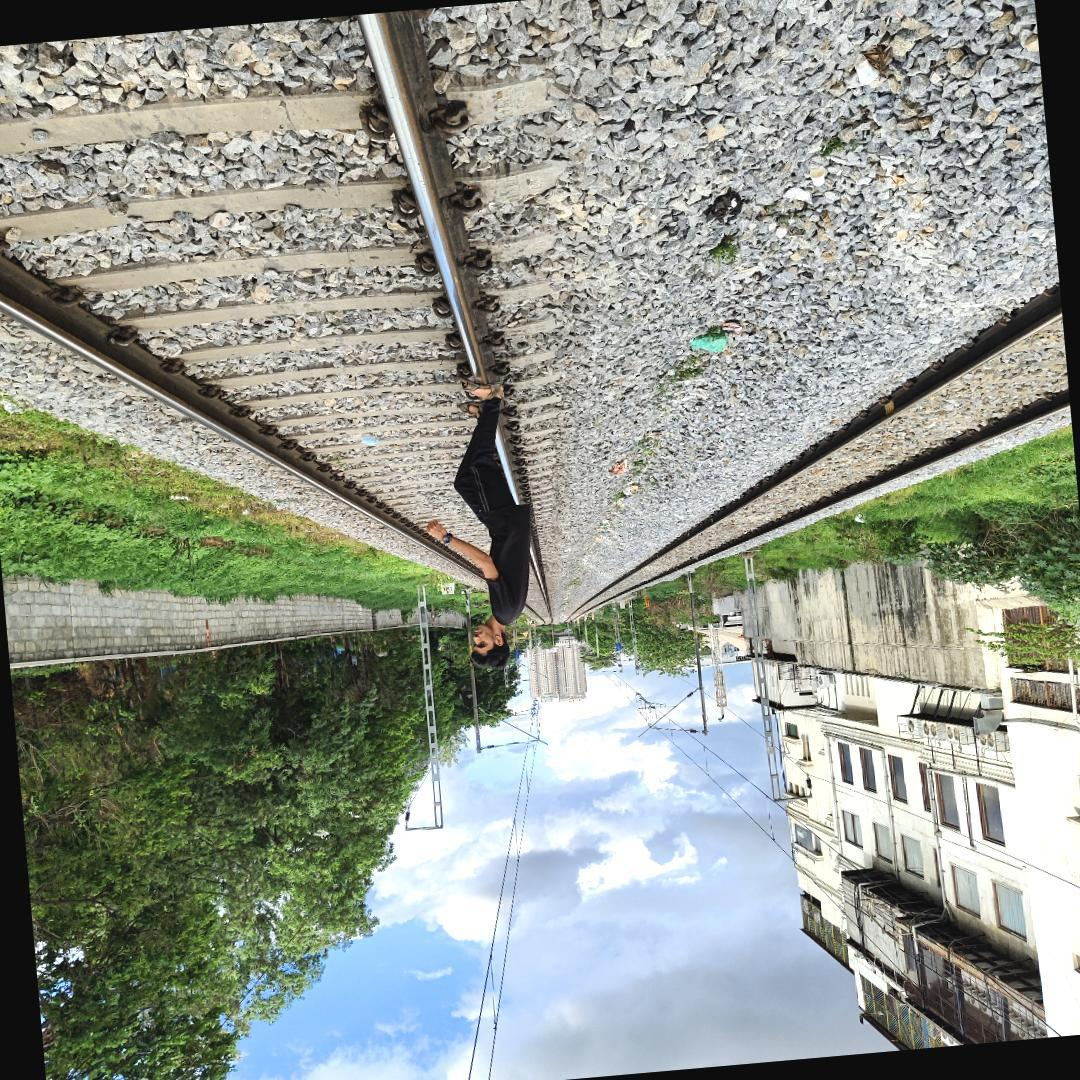standing: (410, 370, 550, 674)
